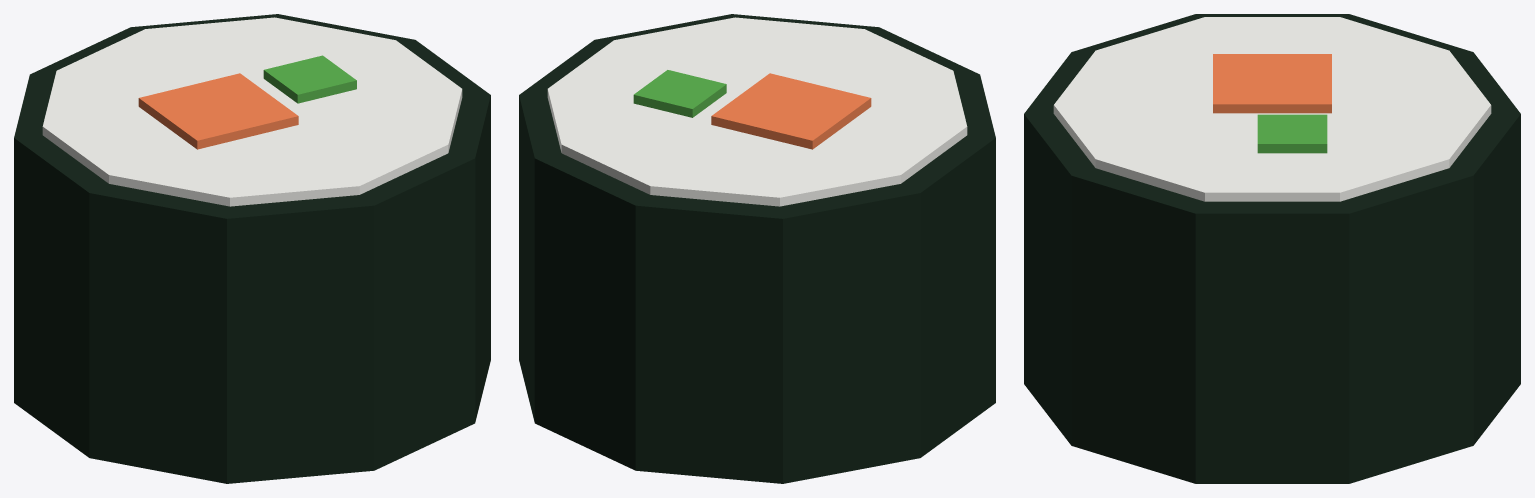
File: sushi_maki.glb
3 views of the same model, side by side, from view 1: azimuth 30°, elevation 25°; view 2: azimuth 150°, elevation 25°; view 3: azimuth 270°, elevation 25° (orthographic).
Parts seen in each view (by area): view 1: sushi_maki; view 2: sushi_maki; view 3: sushi_maki.
Boxes of the visible parts, x1=… form: sushi_maki: x1=14, y1=14, x2=490, y2=483; sushi_maki: x1=519, y1=14, x2=995, y2=483; sushi_maki: x1=1024, y1=14, x2=1520, y2=483.
Bounding box in the file's own units: 0.0476 × 0.034 × 0.05.
